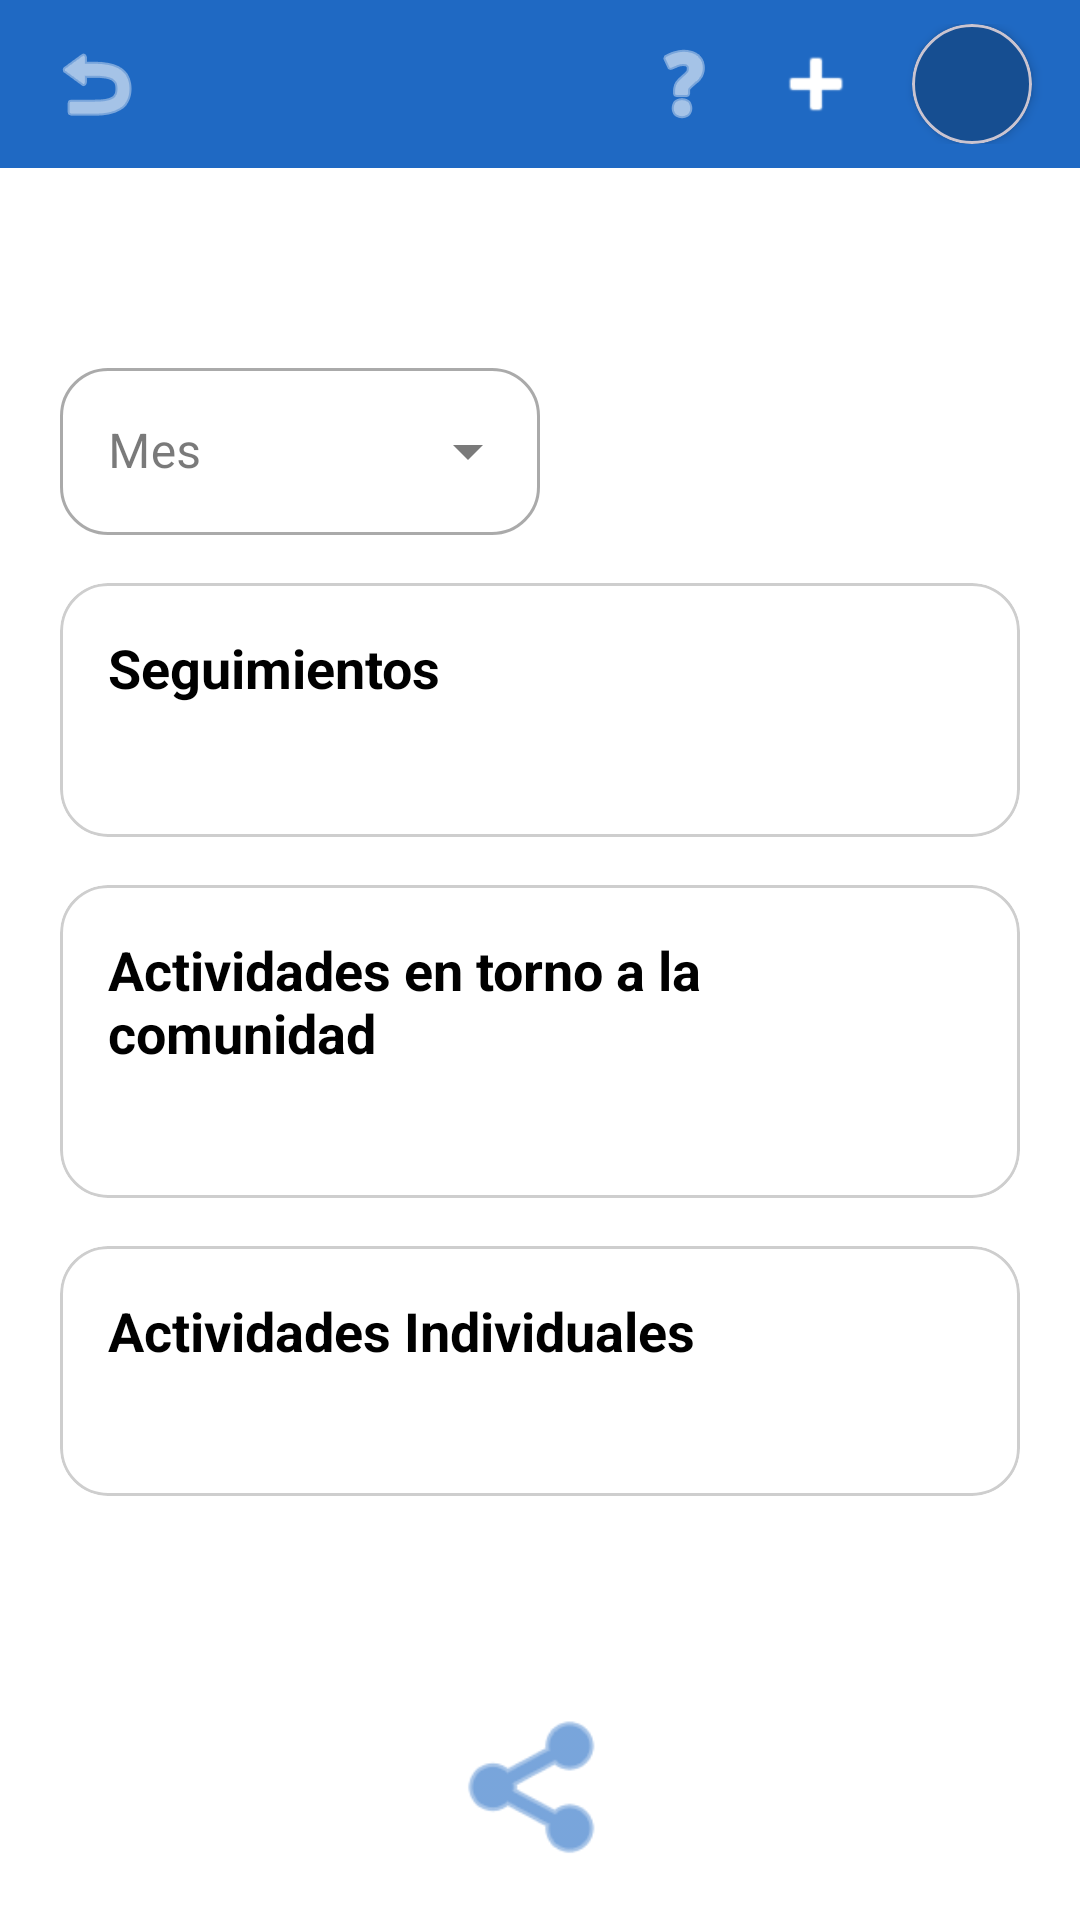

Icons on this 1080*1920 Android screen, each with its box as (x1,y1,x2,y2):
Agregar Seguimiento: (789,57,843,111)
Atrás: (63,53,132,116)
Guía de Uso - DECE Gestión: (663,50,705,118)
